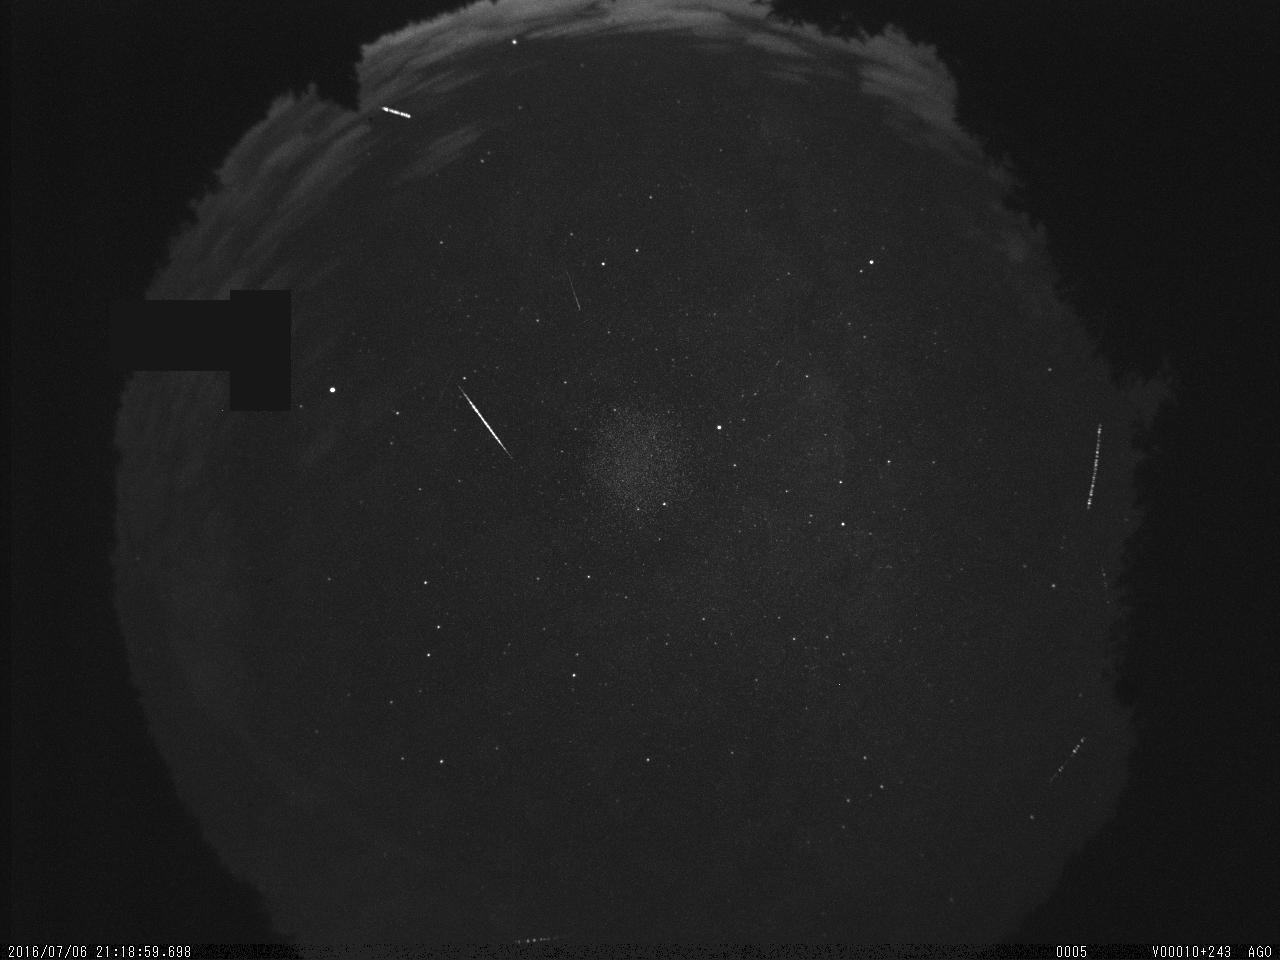meteor: (450, 377, 522, 465)
satelite: (1082, 409, 1111, 521), (377, 98, 417, 128)
